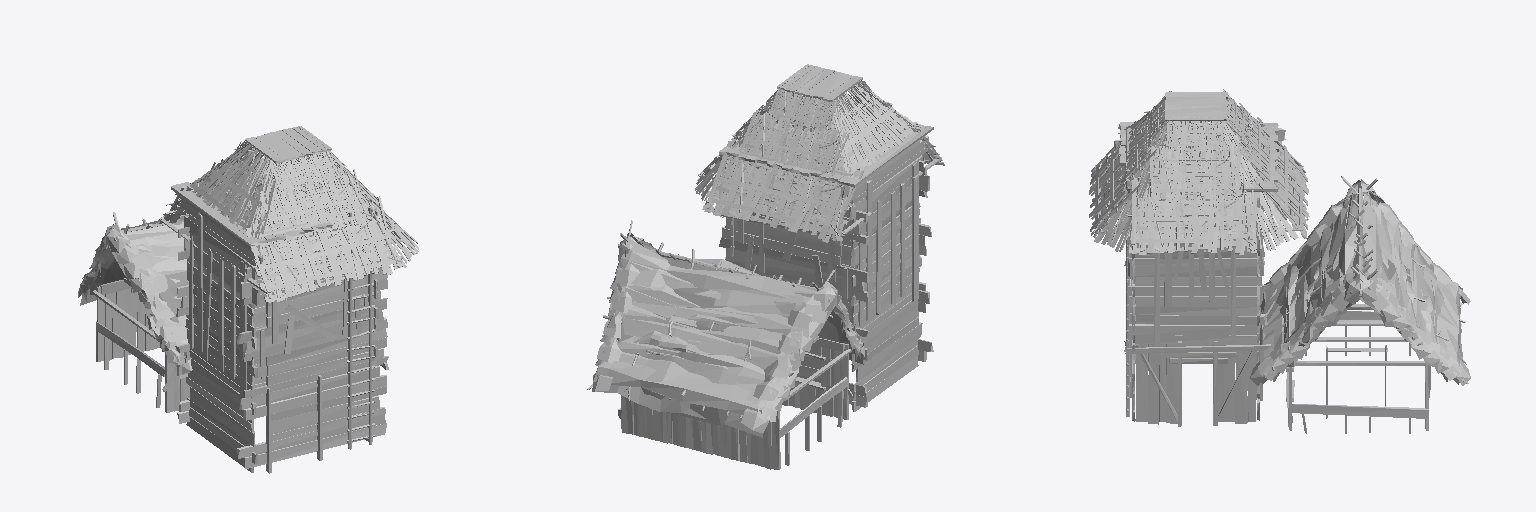
The model's file is home.obj.
The picture shows the model from 3 angles: view 1: azimuth 30°, elevation 25°; view 2: azimuth 150°, elevation 25°; view 3: azimuth 270°, elevation 25°; orthographic projection.
Parts seen in each view (by area): view 1: silo_Cube.001, Cube.003_Cube.001, thatch_with_opacity_opacity, barn_Cube.002, Cube.016_Cube.001, Cube.010_Cube.001, ladder_Cube.001, Cube.013_Cube.001, Cube_Cube.001, Cube.005_Cube.001, Cube.004_Cube.001; view 2: thatch_with_opacity_opacity, silo_Cube.001, barn_Cube.002, Cube.004_Cube.001, Cube.016_Cube.001, Cube.009_Cube.001, Cube_Cube.001, Cube.014_Cube.001, beams_and_sticks.006_Circle.001; view 3: silo_Cube.001, thatch_with_opacity_opacity, Cube.001_Cube.000, barn_Cube.002, Cube.011_Cube.001, Cube.004_Cube.001, Cube.005_Cube.001, Cube.003_Cube.001, Cube.012_Cube.001, Cube_Cube.001, beams_and_sticks.006_Circle.001, Cube.009_Cube.001 (+4 smaller).
Part boxes in pixels (x1,y1,x2,y2): silo_Cube.001: (171,126,390,473); Cube.003_Cube.001: (237,196,404,302); thatch_with_opacity_opacity: (78,218,192,378); barn_Cube.002: (92,278,190,412); Cube.016_Cube.001: (186,143,310,248); Cube.010_Cube.001: (260,169,371,244); ladder_Cube.001: (347,207,374,449); Cube.013_Cube.001: (269,146,340,193); Cube_Cube.001: (90,219,188,322); Cube.005_Cube.001: (373,210,418,267); Cube.004_Cube.001: (157,161,298,240); thatch_with_opacity_opacity: (592,233,864,437); silo_Cube.001: (719,64,933,411); barn_Cube.002: (618,336,852,469); Cube.004_Cube.001: (702,139,872,242); Cube.016_Cube.001: (808,83,920,186); Cube.009_Cube.001: (736,110,849,183); Cube_Cube.001: (617,256,853,425); Cube.014_Cube.001: (767,88,839,132); beams_and_sticks.006_Circle.001: (587,220,834,418); silo_Cube.001: (1114,92,1285,426); thatch_with_opacity_opacity: (1250,179,1470,385); Cube.001_Cube.000: (1128,177,1261,255); barn_Cube.002: (1286,304,1430,433); Cube.011_Cube.001: (1148,145,1242,200); Cube.004_Cube.001: (1255,117,1309,238); Cube.005_Cube.001: (1094,190,1298,251); Cube.003_Cube.001: (1089,144,1147,237); Cube.012_Cube.001: (1165,116,1224,150); Cube_Cube.001: (1261,197,1459,347); beams_and_sticks.006_Circle.001: (1256,176,1468,383); Cube.009_Cube.001: (1237,103,1270,181).
Size of the model in its own units: 31.32 by 40.2 by 47.49.